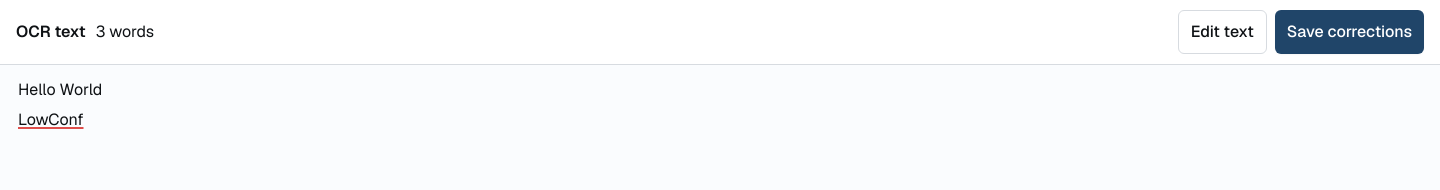
Test: OcrTextEditor › toggles to edit mode
Click the button "Edit text".
click(1222, 32)  # box [1178,10,1267,54]
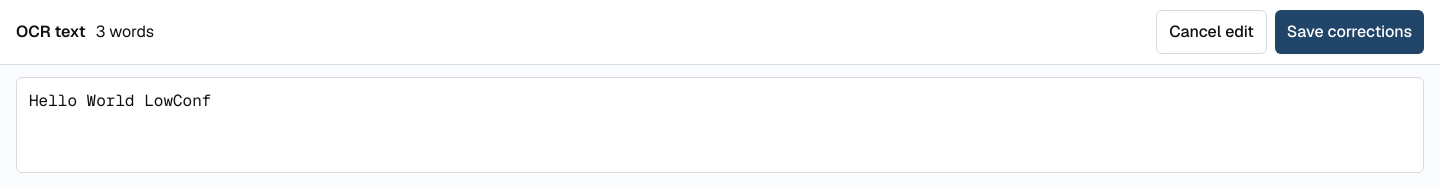
Expected: the text "Cancel edit" is shown, [1169,20,1254,44]
